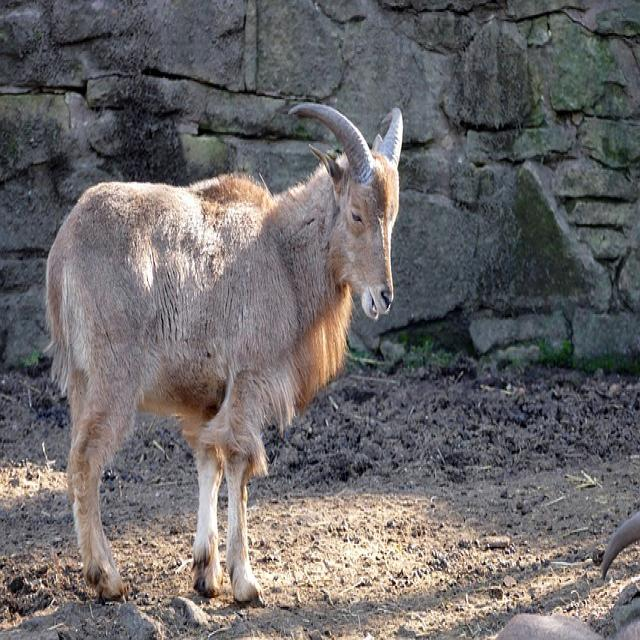goat: (46, 103, 402, 604)
